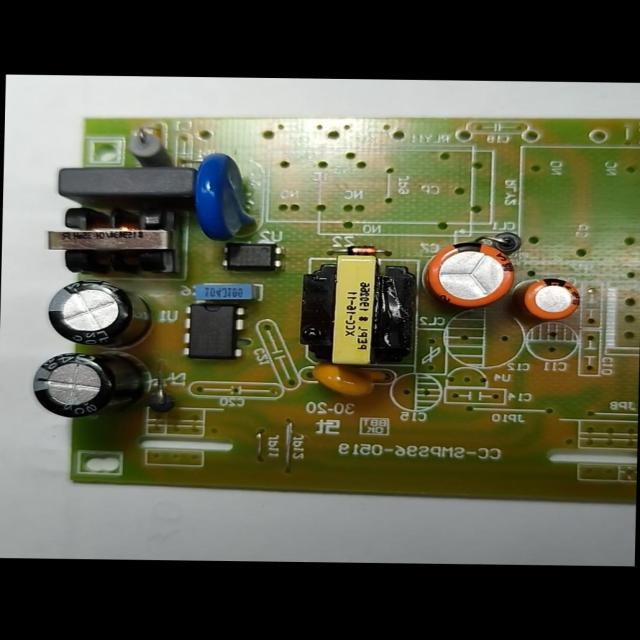Cap1: (426, 241, 514, 308)
Cap2: (521, 277, 582, 321)
Cap3: (43, 278, 156, 349)
Cap4: (30, 350, 151, 420)
MOSFET: (181, 301, 247, 358)
Mov: (192, 150, 256, 244)
Resistor: (120, 128, 180, 168)
Transformer: (296, 252, 424, 368), (42, 199, 187, 277)
